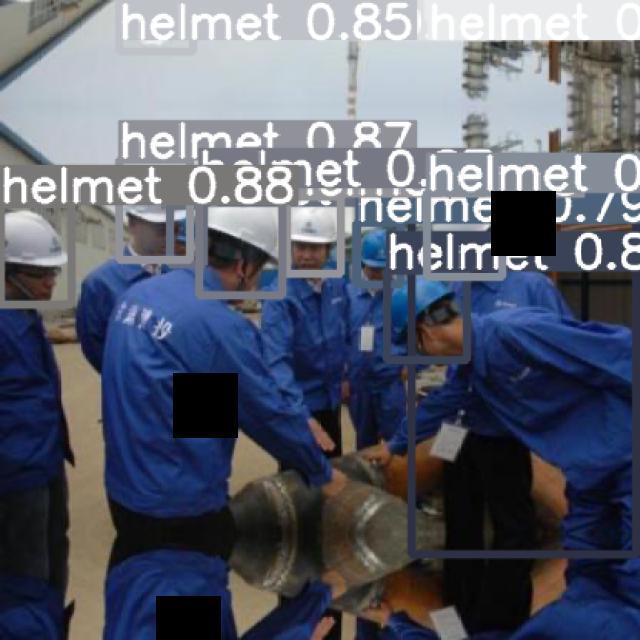helmet: (389, 277, 454, 343), (3, 209, 67, 268)
